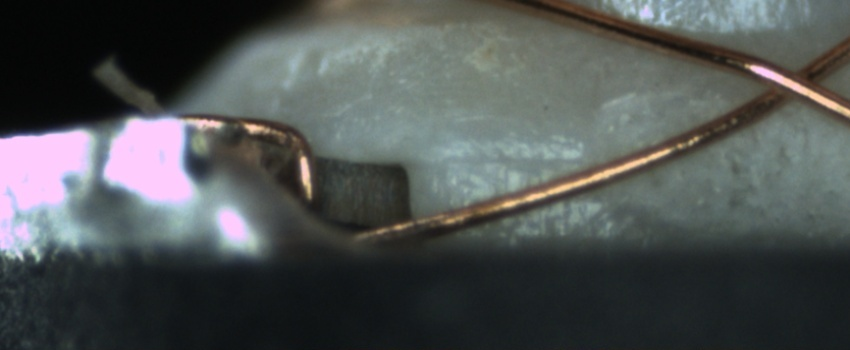CL: (740, 47, 841, 117)
DL: (436, 126, 598, 190)
TE: (172, 108, 331, 222)
